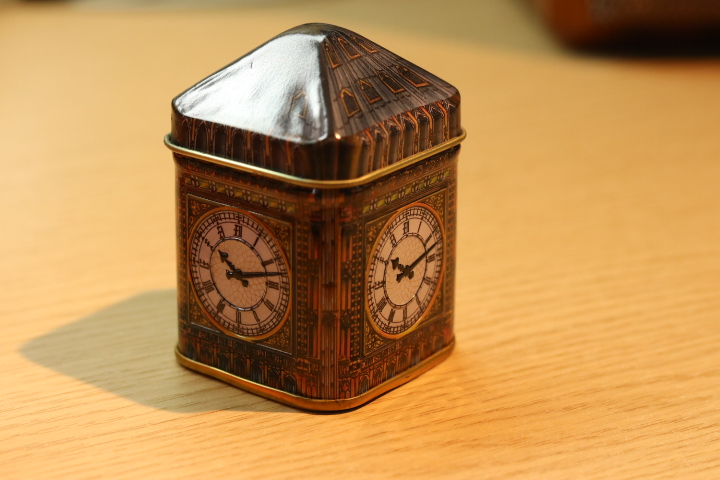Big Ben: (154, 15, 501, 427)
